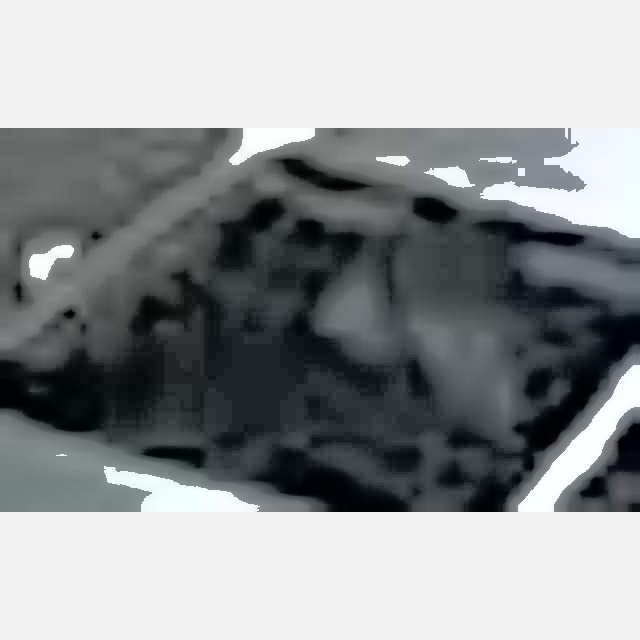pakai: (269, 243, 525, 410)
